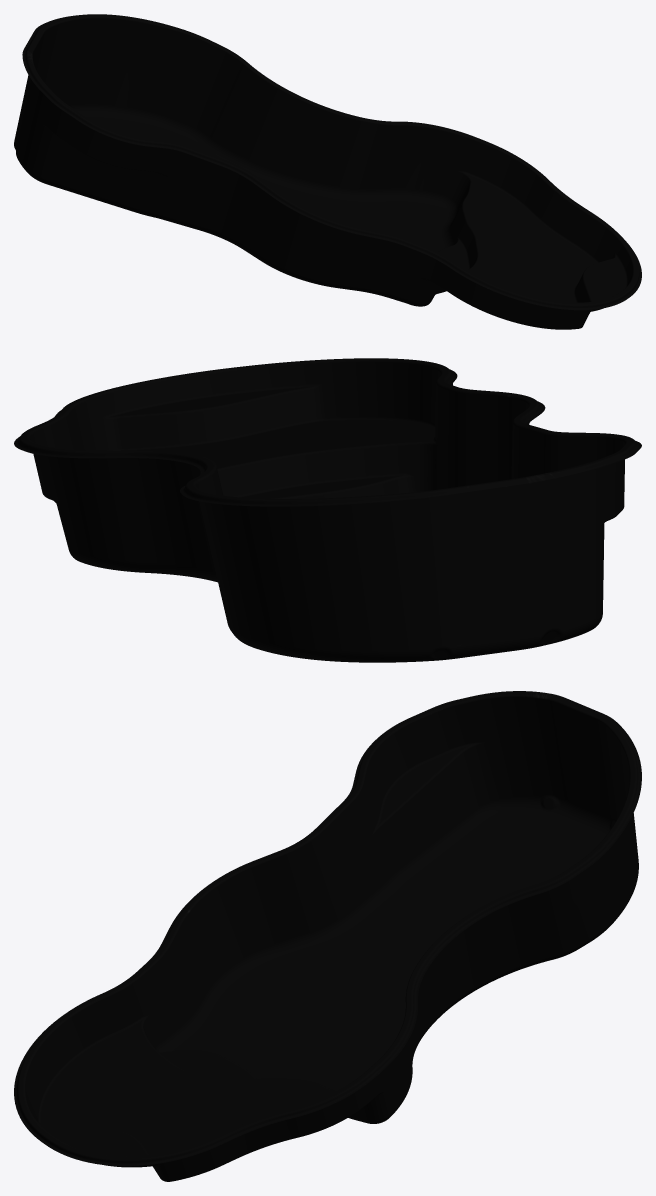
Rendered from Costa Azul.glb.
3 renders of one model, top to bottom at view 1: azimuth 30°, elevation 25°; view 2: azimuth 150°, elevation 25°; view 3: azimuth 270°, elevation 25°, orthographic. The views are drawn at different scales.
Visible parts, largest first — view 1: node_id4; view 2: node_id4; view 3: node_id4.
Part boxes in pixels (box(x1,y1,x2,y2)): node_id4: box(14, 14, 641, 329); node_id4: box(14, 358, 641, 662); node_id4: box(14, 691, 641, 1181).
Size of the model in its own units: 0.8922 by 0.3803 by 0.8869.
Materials: 1 (1 with a texture image).
